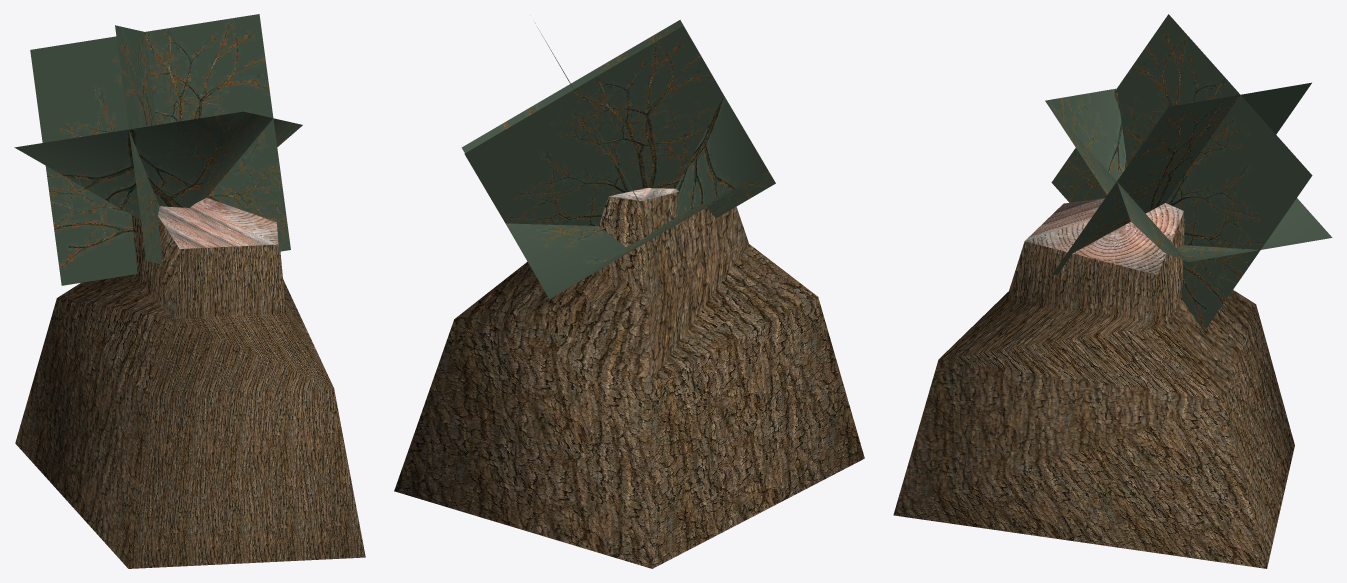
The model's file is decd_oakstump_lg_l2.fbx.
3 renders of one model, left to right at view 1: azimuth 30°, elevation 25°; view 2: azimuth 150°, elevation 25°; view 3: azimuth 270°, elevation 25°, orthographic. The views are drawn at different scales.
Visible parts, largest first — view 1: mesh_node; view 2: mesh_node; view 3: mesh_node.
Boxes of the visible parts, x1=… form: mesh_node: x1=14, y1=14, x2=365, y2=568; mesh_node: x1=394, y1=20, x2=864, y2=568; mesh_node: x1=893, y1=14, x2=1332, y2=568.
Size of the model in its own units: 4.55 by 6.35 by 5.64.
